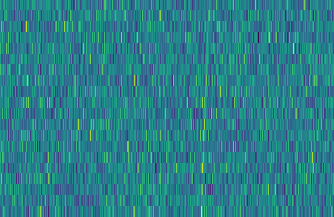signal: (197, 0, 214, 217)
